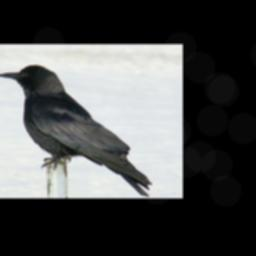Crow: (0, 64, 153, 198)
